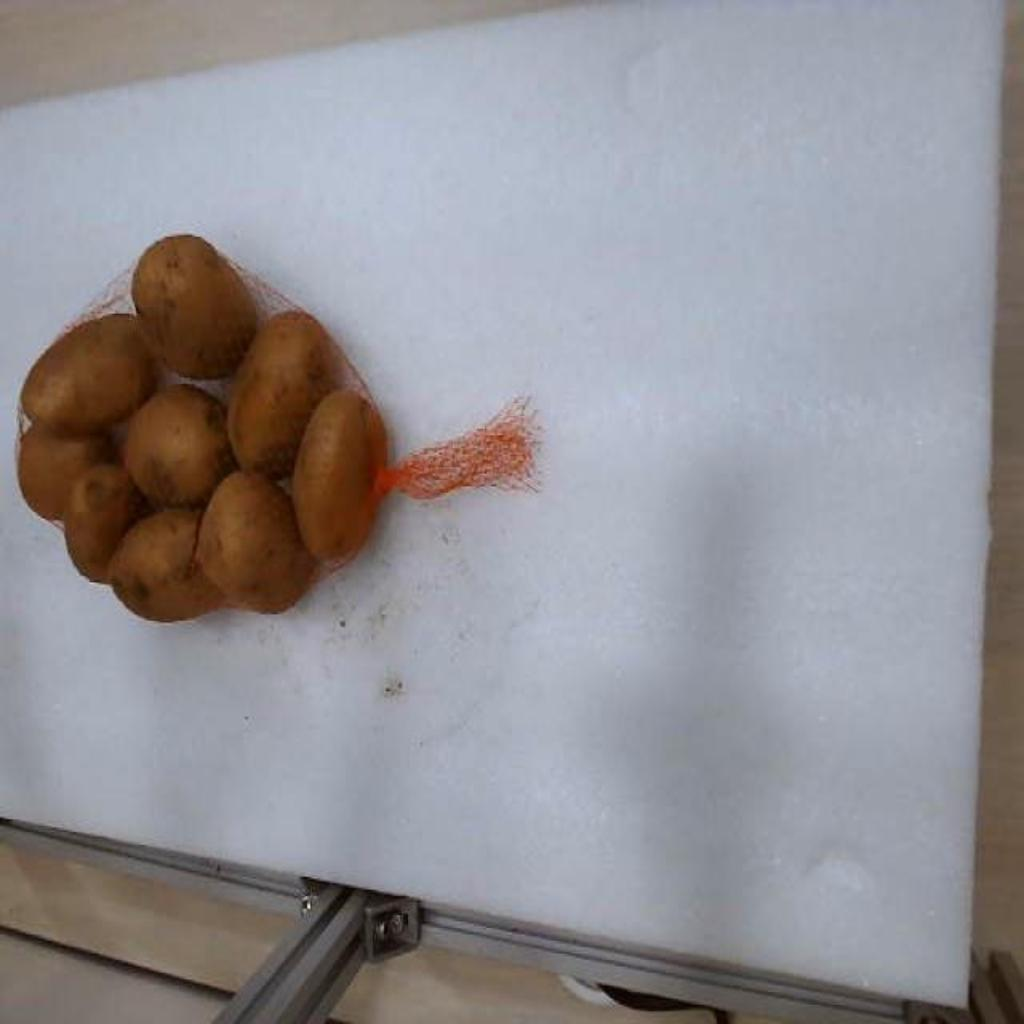potato: (228, 309, 336, 479), (132, 235, 258, 377), (196, 472, 314, 612), (292, 389, 388, 560), (22, 315, 154, 435), (124, 384, 236, 505), (108, 509, 226, 620), (64, 464, 146, 583), (20, 424, 116, 519)
